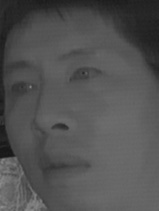eye: (66, 65, 105, 86), (6, 80, 38, 99)
mouth: (36, 152, 93, 183)
